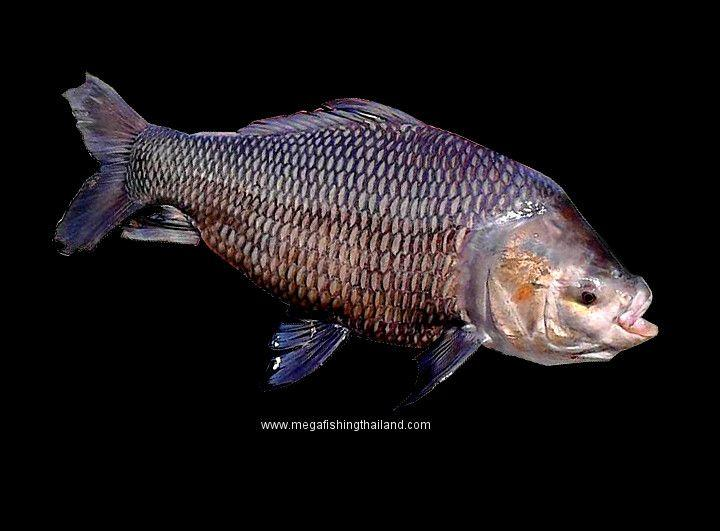Indian Carp: (51, 69, 659, 409)
